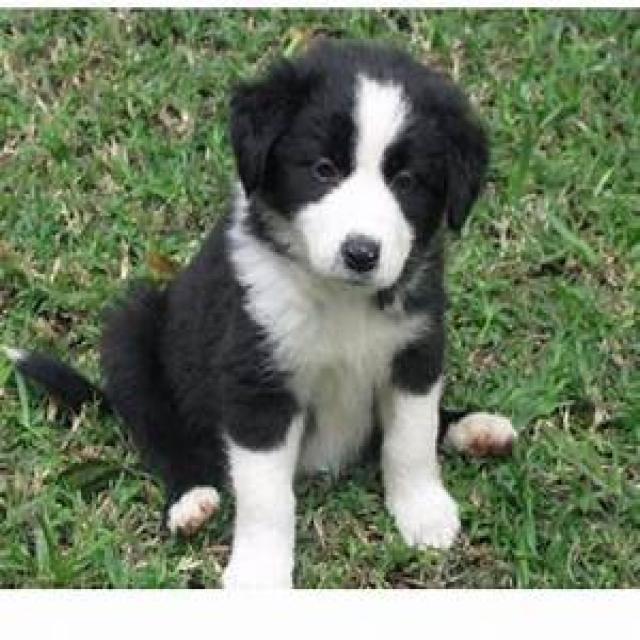dog: (99, 41, 489, 589), (447, 413, 515, 455)
